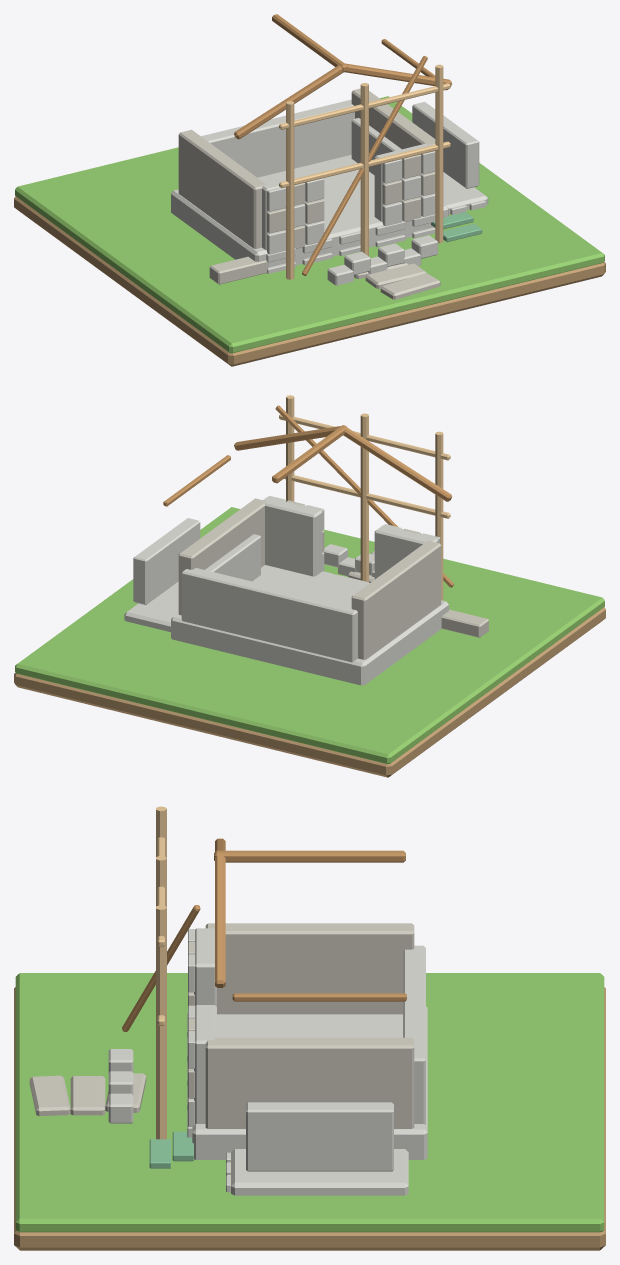
File: stone_house_l03_construction.glb
3 views of the same model, one above another, from view 1: azimuth 30°, elevation 25°; view 2: azimuth 150°, elevation 25°; view 3: azimuth 270°, elevation 25° (orthographic). The views are drawn at different scales.
Visible parts, largest first — view 1: stone_house_component_pilot_grass_tile.003, stone_house_component_pilot_earth_tile.003, pilot_stone_house_l03_foundation_stone_block_medium_medium_f, pilot_stone_house_l03_side_wall_-1, pilot_stone_house_l03_rear_wall, pilot_stone_house_l03_annex_partial_side_1, pilot_stone_house_l03_side_wall_1, pilot_stone_house_l03_scaffold_scaffold_post_-0.7, pilot_stone_house_l03_scaffold_scaffold_post_0.7, pilot_stone_house_l03_scaffold_scaffold_post_0.0, pilot_stone_house_l03_scaffold_scaffold_brace, pilot_stone_house_l03_roof_rafter_-1 (+14 smaller); view 2: stone_house_component_pilot_grass_tile.003, pilot_stone_house_l03_rear_wall, pilot_stone_house_l03_foundation_stone_block_medium_medium_f, stone_house_component_pilot_earth_tile.003, pilot_stone_house_l03_side_wall_-1, pilot_stone_house_l03_front_wall_1, pilot_stone_house_l03_annex_partial_side_1, pilot_stone_house_l03_side_wall_1, pilot_stone_house_l03_front_wall_-1, pilot_stone_house_l03_annex_partial_side_-1, pilot_stone_house_l03_annex_foundation_stone_block_low_thin_, pilot_stone_house_l03_scaffold_scaffold_post_0.0 (+10 smaller); view 3: stone_house_component_pilot_grass_tile.003, pilot_stone_house_l03_side_wall_-1, pilot_stone_house_l03_side_wall_1, stone_house_component_pilot_earth_tile.003, pilot_stone_house_l03_annex_partial_side_1, pilot_stone_house_l03_foundation_stone_block_medium_medium_f, pilot_stone_house_l03_annex_foundation_stone_block_low_thin_, pilot_stone_house_l03_rear_wall, pilot_stone_house_l03_scaffold_scaffold_post_0.7, pilot_stone_house_l03_ridge_beam, pilot_stone_house_l03_front_wall_1, pilot_stone_house_l03_front_wall_-1 (+10 smaller).
Boxes of the visible parts, x1,y1,x2,y2 form: stone_house_component_pilot_grass_tile.003: (15, 96, 604, 353); stone_house_component_pilot_earth_tile.003: (14, 196, 605, 366); pilot_stone_house_l03_foundation_stone_block_medium_medium_f: (171, 155, 448, 267); pilot_stone_house_l03_side_wall_-1: (178, 129, 266, 248); pilot_stone_house_l03_rear_wall: (201, 99, 354, 177); pilot_stone_house_l03_annex_partial_side_1: (412, 101, 479, 188); pilot_stone_house_l03_side_wall_1: (351, 88, 435, 149); pilot_stone_house_l03_scaffold_scaffold_post_-0.7: (286, 101, 294, 279); pilot_stone_house_l03_scaffold_scaffold_post_0.7: (435, 64, 443, 243); pilot_stone_house_l03_scaffold_scaffold_post_0.0: (360, 83, 368, 256); pilot_stone_house_l03_scaffold_scaffold_brace: (302, 56, 427, 275); pilot_stone_house_l03_roof_rafter_-1: (234, 65, 343, 139); stone_house_component_pilot_grass_tile.003: (15, 507, 604, 764); pilot_stone_house_l03_rear_wall: (181, 568, 357, 662); pilot_stone_house_l03_foundation_stone_block_medium_medium_f: (171, 565, 448, 685); stone_house_component_pilot_earth_tile.003: (14, 607, 605, 777); pilot_stone_house_l03_side_wall_-1: (351, 540, 441, 659); pilot_stone_house_l03_front_wall_1: (261, 497, 322, 576); pilot_stone_house_l03_annex_partial_side_1: (133, 518, 200, 604); pilot_stone_house_l03_side_wall_1: (178, 498, 266, 615); pilot_stone_house_l03_front_wall_-1: (374, 525, 438, 579); pilot_stone_house_l03_annex_partial_side_-1: (205, 534, 260, 581); pilot_stone_house_l03_annex_foundation_stone_block_low_thin_: (124, 581, 178, 632); pilot_stone_house_l03_scaffold_scaffold_post_0.0: (360, 413, 368, 582); stone_house_component_pilot_grass_tile.003: (15, 973, 604, 1232); pilot_stone_house_l03_side_wall_-1: (205, 923, 414, 1014); pilot_stone_house_l03_side_wall_1: (205, 1037, 414, 1128); stone_house_component_pilot_earth_tile.003: (14, 987, 605, 1250); pilot_stone_house_l03_annex_partial_side_1: (246, 1102, 393, 1171); pilot_stone_house_l03_foundation_stone_block_medium_medium_f: (192, 1006, 427, 1159); pilot_stone_house_l03_annex_foundation_stone_block_low_thin_: (231, 1149, 408, 1195); pilot_stone_house_l03_rear_wall: (403, 945, 425, 1124); pilot_stone_house_l03_scaffold_scaffold_post_0.7: (156, 905, 166, 1139); pilot_stone_house_l03_ridge_beam: (214, 850, 405, 862); pilot_stone_house_l03_front_wall_1: (194, 1005, 216, 1123); pilot_stone_house_l03_front_wall_-1: (194, 928, 216, 1006).
Size of the model in its own units: 3.6 by 1.85 by 3.6.
